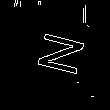N_W: (26, 30, 84, 80)
